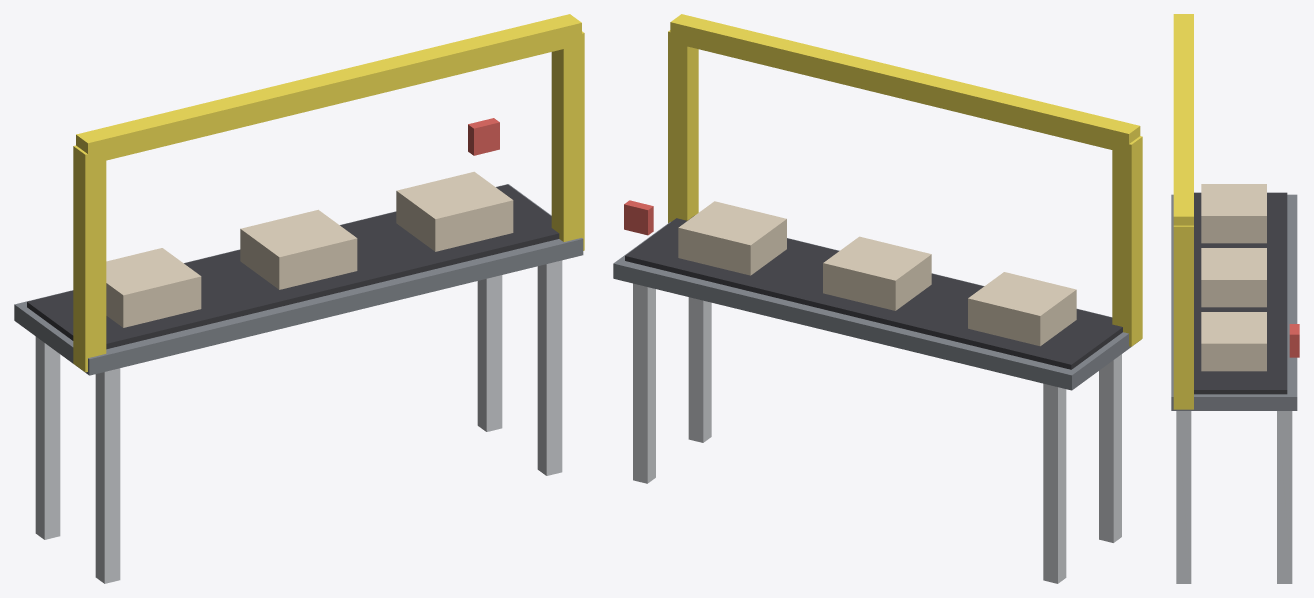
File: assembly_line.glb
3 views of the same model, side by side, from view 1: azimuth 30°, elevation 25°; view 2: azimuth 150°, elevation 25°; view 3: azimuth 270°, elevation 25° (orthographic). The views are drawn at different scales.
Visible parts, largest first — view 1: assembly_line; view 2: assembly_line; view 3: assembly_line.
Boxes of the visible parts, box(x1,y1,x2,y2) form: assembly_line: box(14, 14, 584, 583); assembly_line: box(613, 14, 1142, 583); assembly_line: box(1171, 14, 1299, 583).
Size of the model in its own units: 1.92 by 1.64 by 0.51.
